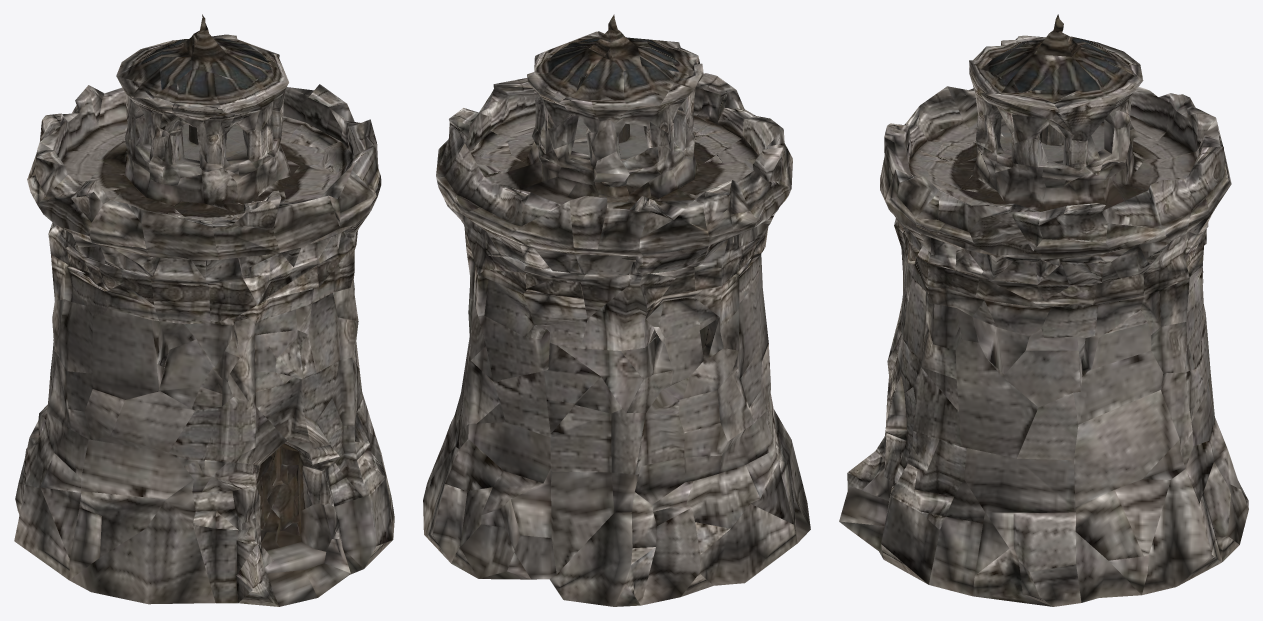
Rendered from citadel_tower.glb.
The picture shows the model from 3 angles, left to right: view 1: azimuth 30°, elevation 25°; view 2: azimuth 150°, elevation 25°; view 3: azimuth 270°, elevation 25°; orthographic projection.
Visible parts, largest first — view 1: citadel_tower; view 2: citadel_tower; view 3: citadel_tower.
Part boxes in pixels (x1,y1,x2,y2): citadel_tower: (14,14,394,606); citadel_tower: (423,14,810,606); citadel_tower: (839,14,1248,606).
Bounding box in the file's own units: 1.26 × 1.85 × 1.35.
Materials: 1 (1 with a texture image).
